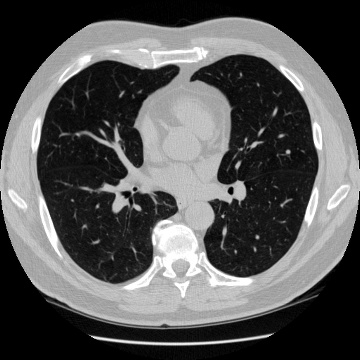PN: (285, 148, 291, 154)
